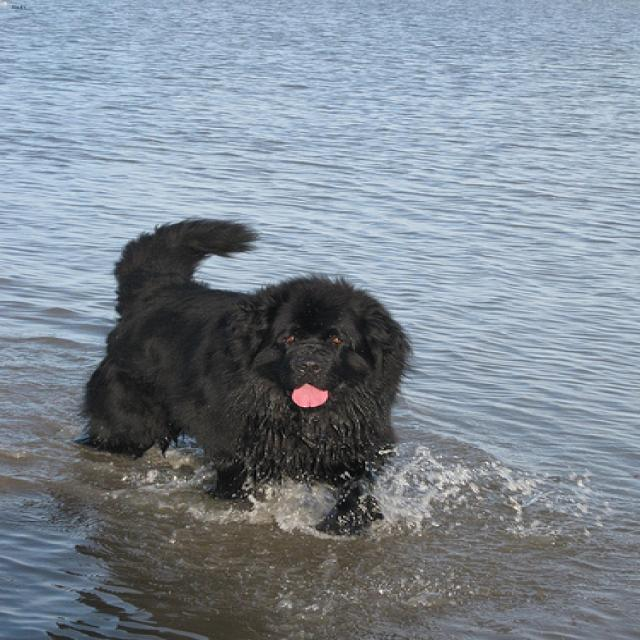dog-newfoundland: (56, 206, 425, 552)
